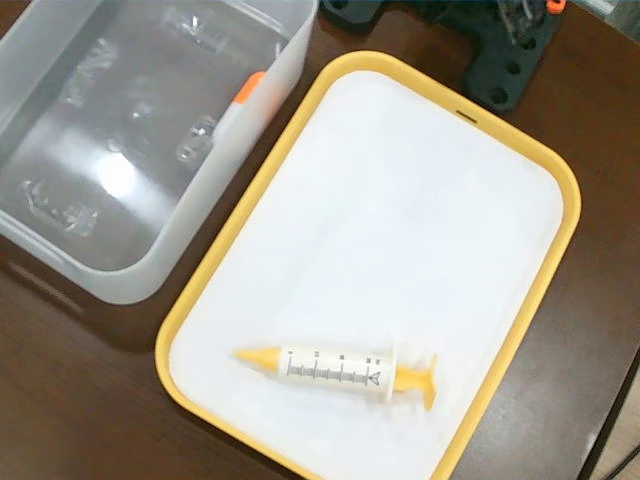pill: (214, 70, 266, 144)
syringe: (225, 332, 446, 412)
